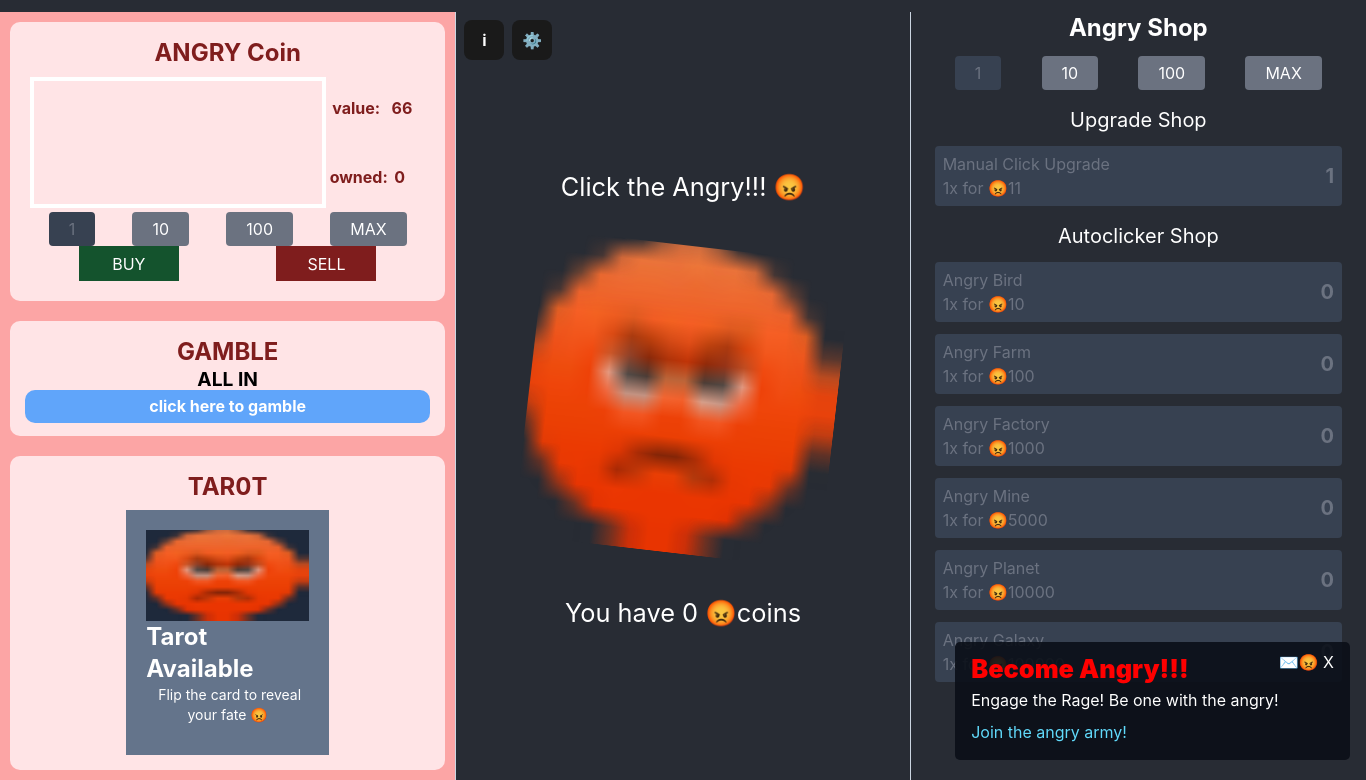
Test: AngryButtonComponent › should increment the counter
Click the button with test id "manual-clicker": [683, 400] box [529,246,836,553]
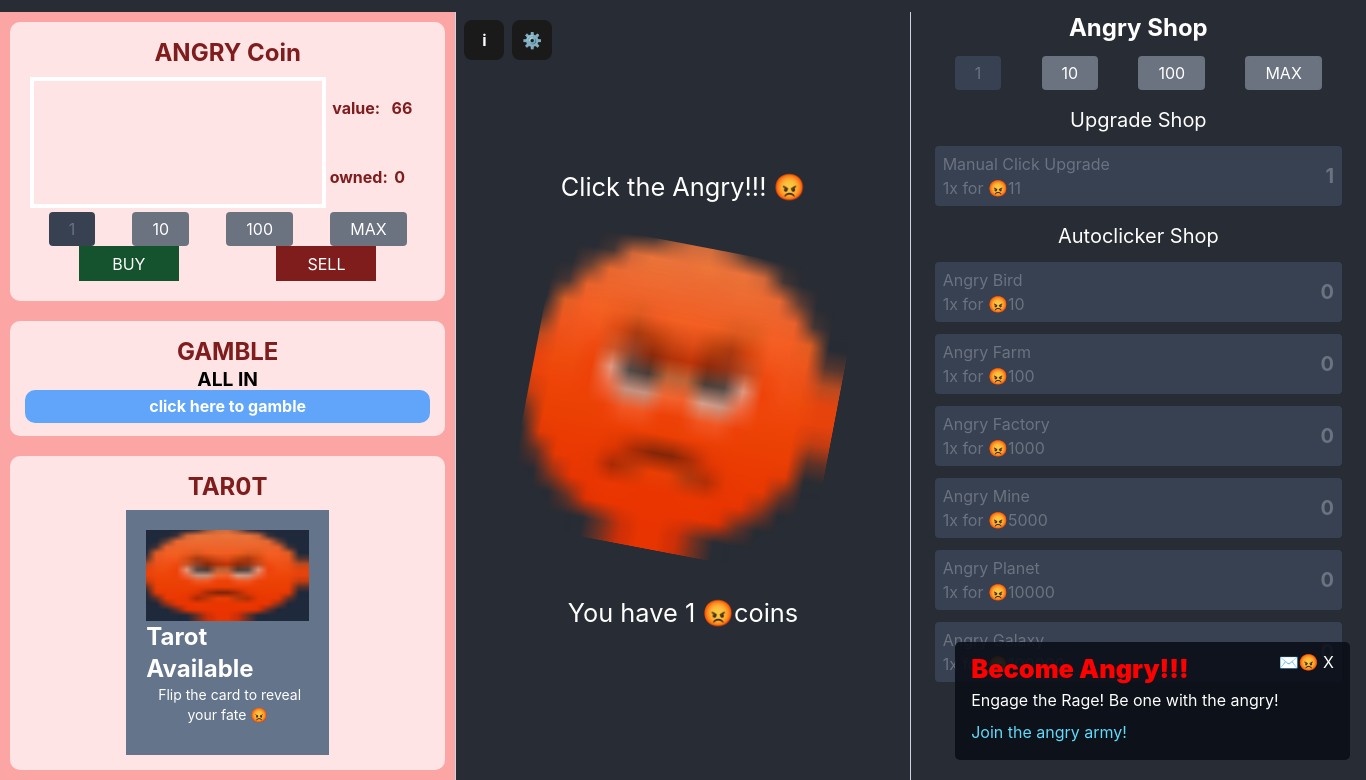
expect the text "You have 1 😡coins" is shown: met, box [568,597,798,628]
